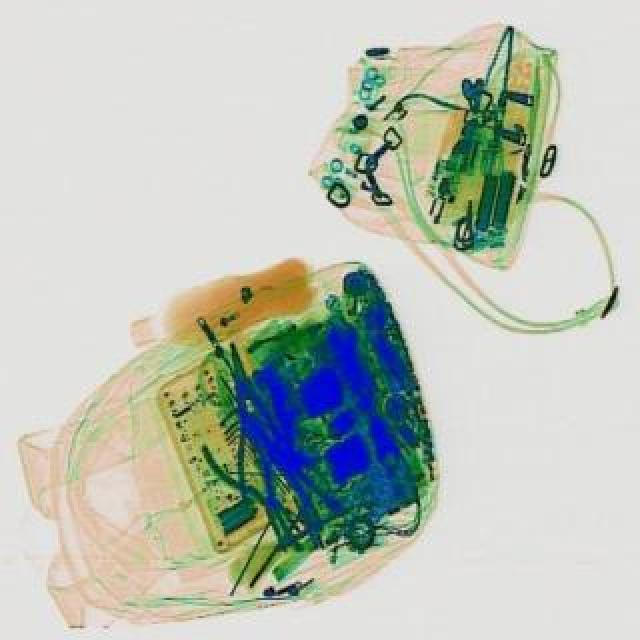wrench: (196, 332, 312, 502), (194, 418, 318, 556)
